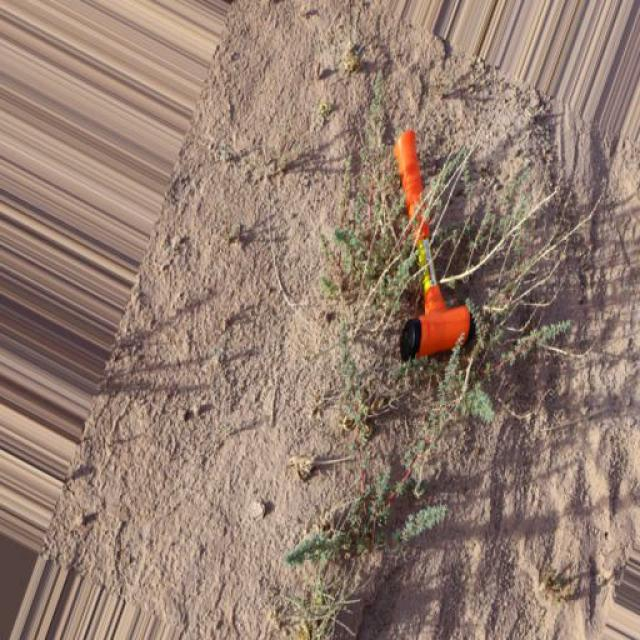mallet: (392, 126, 473, 362)
